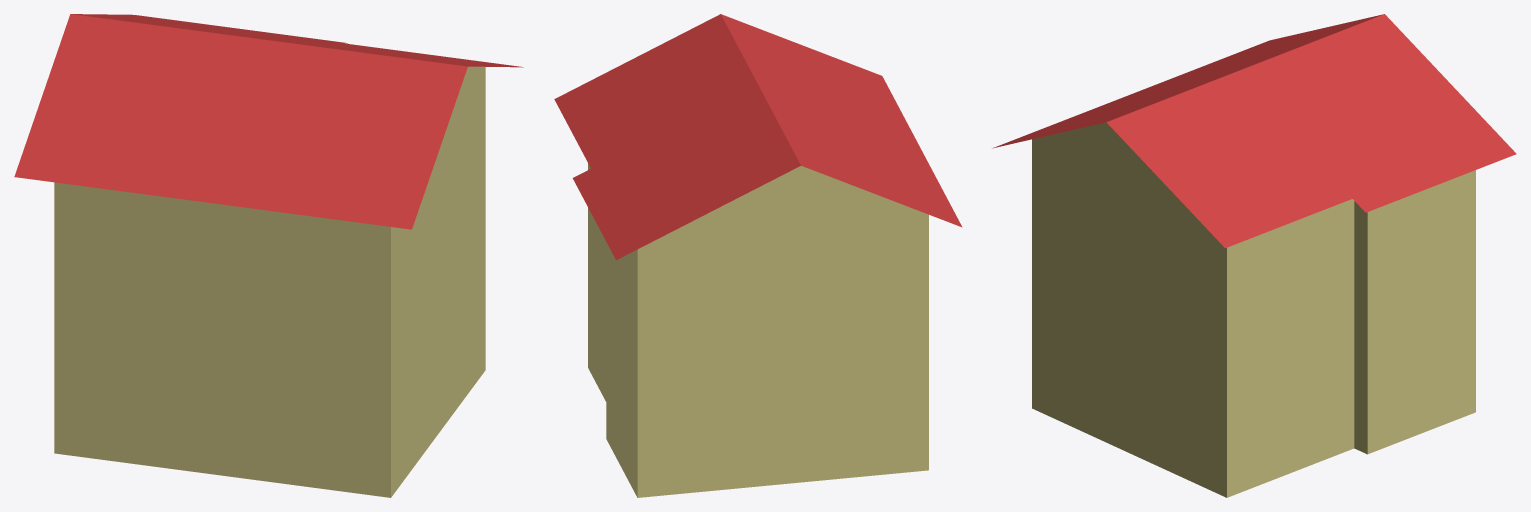
3 renders of one model, left to right at view 1: azimuth 30°, elevation 25°; view 2: azimuth 150°, elevation 25°; view 3: azimuth 270°, elevation 25°, orthographic. The views are drawn at different scales.
Visible parts, largest first — view 1: group_5, group_3, group_4; view 2: group_5, group_3, group_4; view 3: group_5, group_3, group_4.
Part boxes in pixels (x1,y1,x2,y2): group_5: [54, 66, 485, 497]; group_3: [14, 14, 484, 229]; group_4: [72, 14, 523, 229]; group_5: [588, 163, 928, 497]; group_3: [572, 14, 962, 259]; group_4: [554, 14, 882, 260]; group_5: [1032, 122, 1475, 497]; group_3: [996, 14, 1515, 246]; group_4: [992, 14, 1516, 248].
Size of the model in its own units: 17.6 by 18.12 by 12.87.
